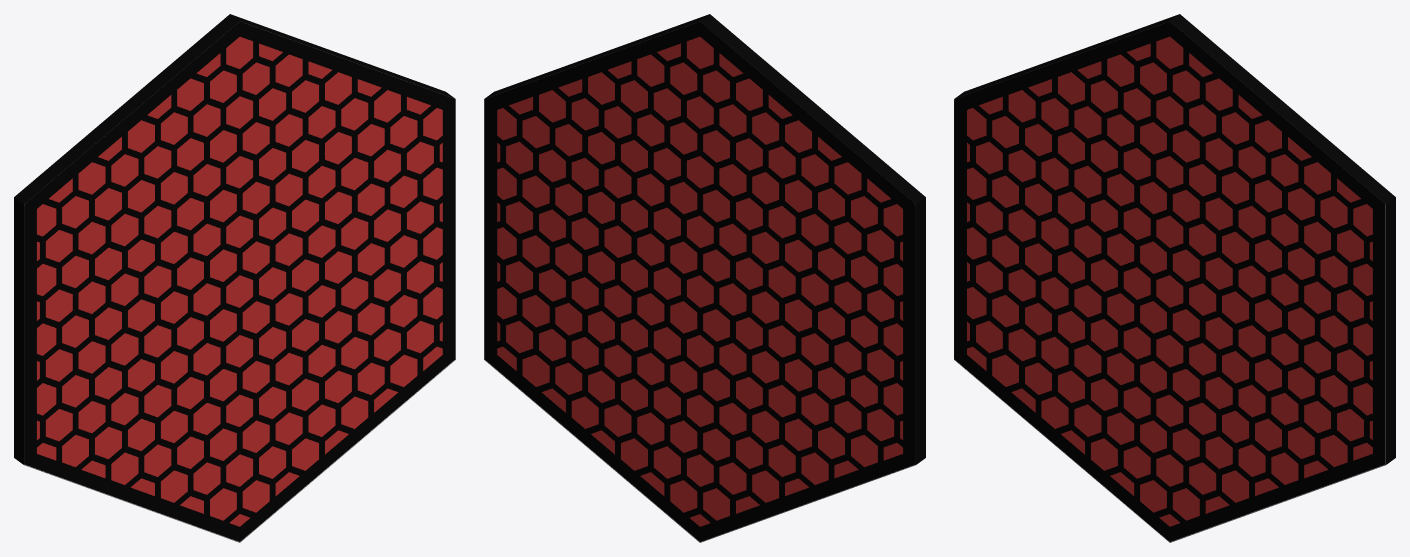
Rendered from hex.wall.fbx.
The picture shows the model from 3 angles, left to right: view 1: azimuth 30°, elevation 25°; view 2: azimuth 150°, elevation 25°; view 3: azimuth 330°, elevation 25°; orthographic projection.
Parts seen in each view (by area): view 1: hex.wall; view 2: hex.wall; view 3: hex.wall.
Part boxes in pixels (x1=…): hex.wall: x1=14, y1=14, x2=455, y2=542; hex.wall: x1=484, y1=14, x2=925, y2=542; hex.wall: x1=954, y1=14, x2=1395, y2=542.
Bounding box in the file's own units: 425 × 490 × 16.89.
